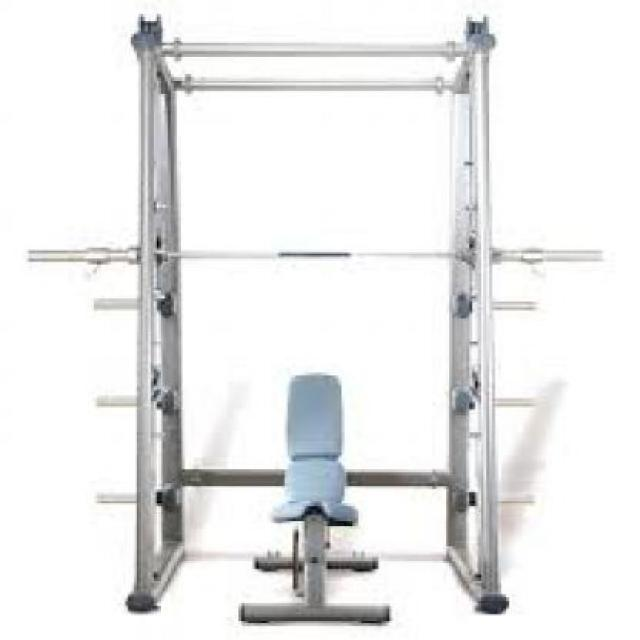smith machine: (29, 9, 609, 618)
